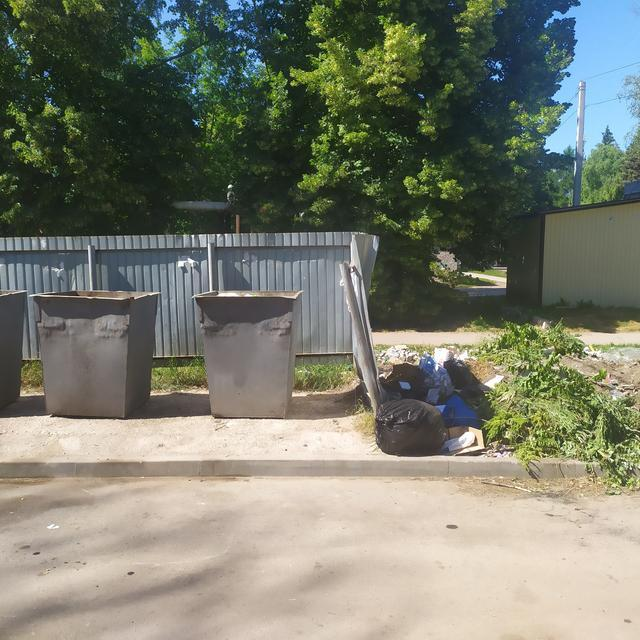Trash_Can_Empty: (32, 291, 158, 418), (195, 292, 300, 418)
